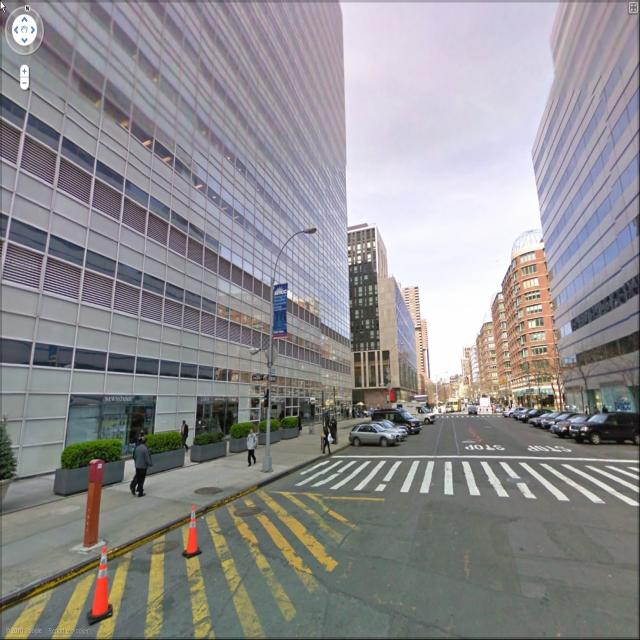b_1: (1, 7, 354, 399), (530, 4, 640, 379), (346, 217, 408, 391), (509, 236, 566, 404), (491, 273, 515, 414), (478, 307, 503, 407), (456, 335, 484, 394)
